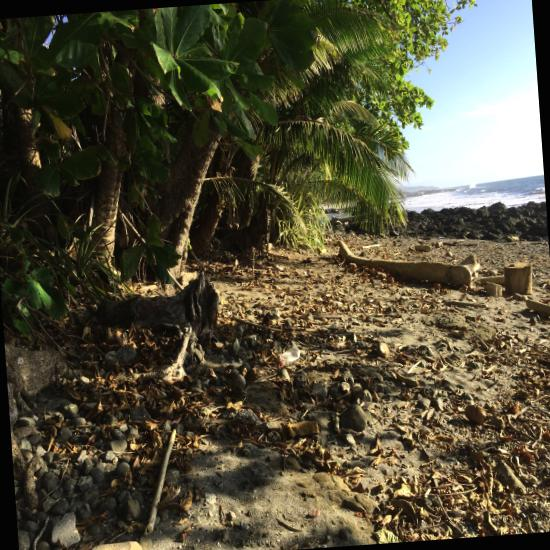Clear plastic bottle: (279, 346, 300, 365)
Plastic bottle cap: (279, 360, 282, 364)
